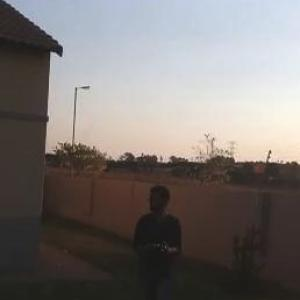follow: (124, 178, 184, 299)
